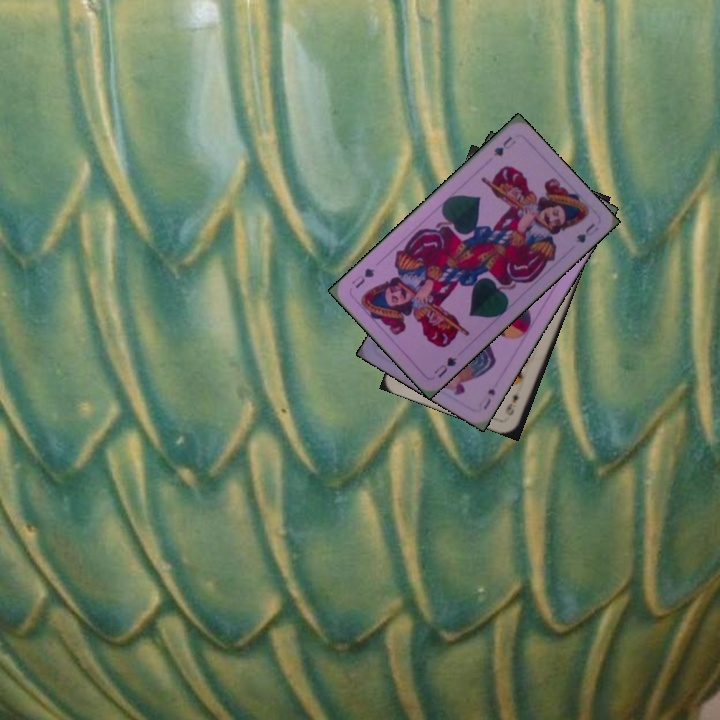E9: (503, 389, 521, 418)
GU: (430, 353, 460, 380), (489, 132, 519, 159)
SU: (479, 384, 498, 412)
